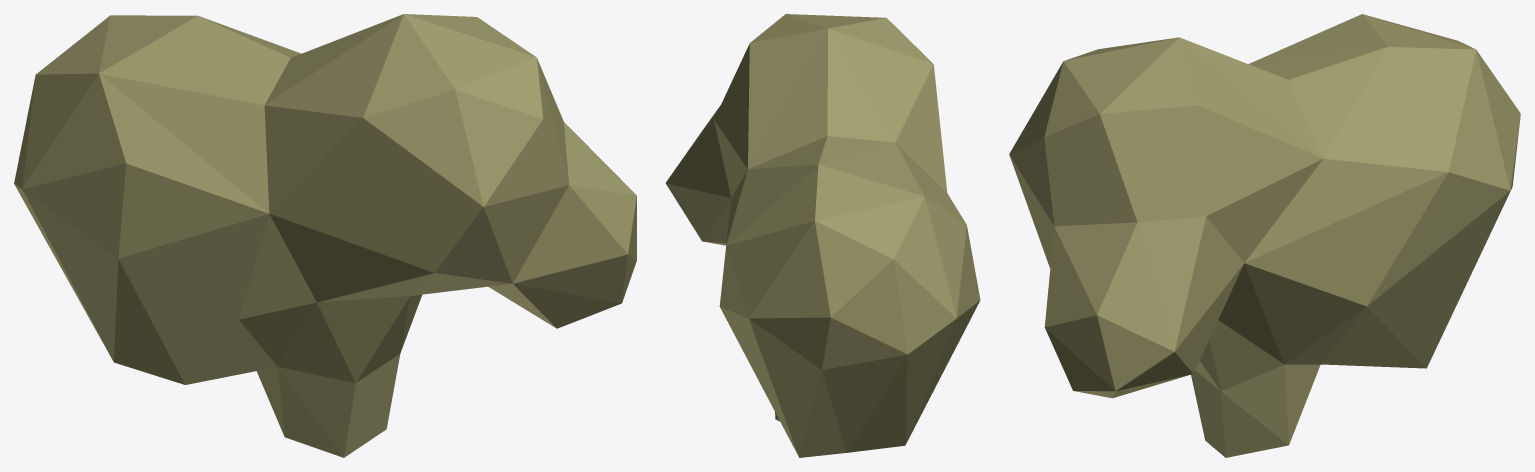
File: DeadVegetationDecorationSmallCluster2.fbx
3 renders of one model, left to right at view 1: azimuth 30°, elevation 25°; view 2: azimuth 150°, elevation 25°; view 3: azimuth 270°, elevation 25°, orthographic. The views are drawn at different scales.
Visible parts, largest first — view 1: DeadVegetationDecorationSmallCluster2; view 2: DeadVegetationDecorationSmallCluster2; view 3: DeadVegetationDecorationSmallCluster2.
Boxes of the visible parts, bbox=[...] form: DeadVegetationDecorationSmallCluster2: bbox=[14, 14, 636, 457]; DeadVegetationDecorationSmallCluster2: bbox=[665, 14, 980, 457]; DeadVegetationDecorationSmallCluster2: bbox=[1009, 14, 1520, 457].
Size of the model in its own units: 490 by 447 by 485.
